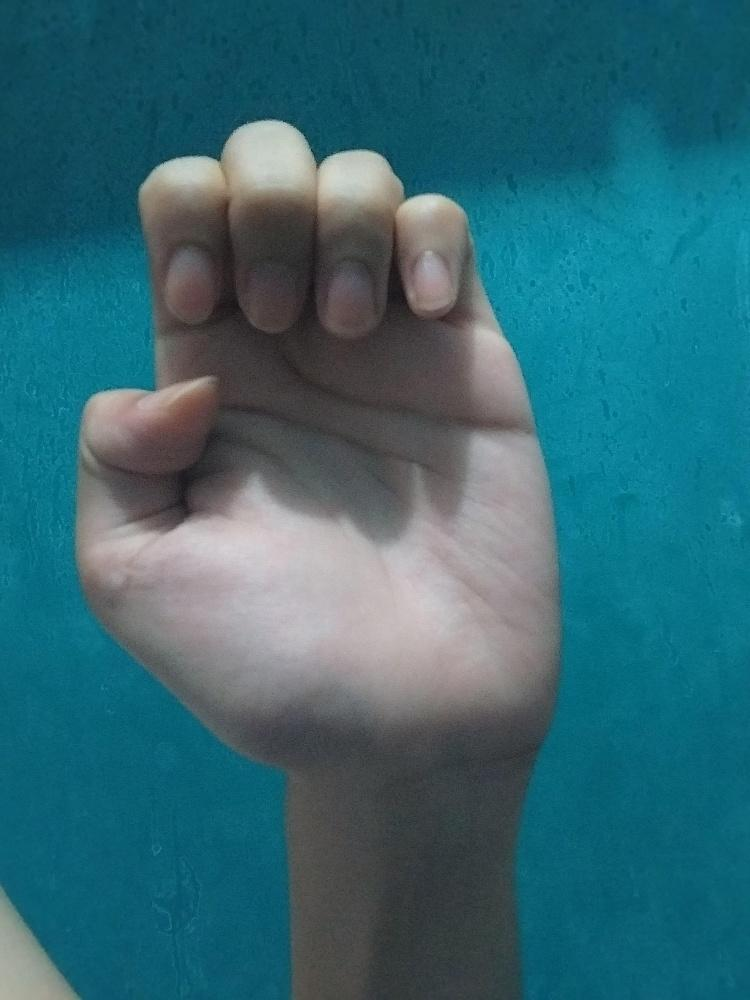e: (67, 109, 567, 760)
